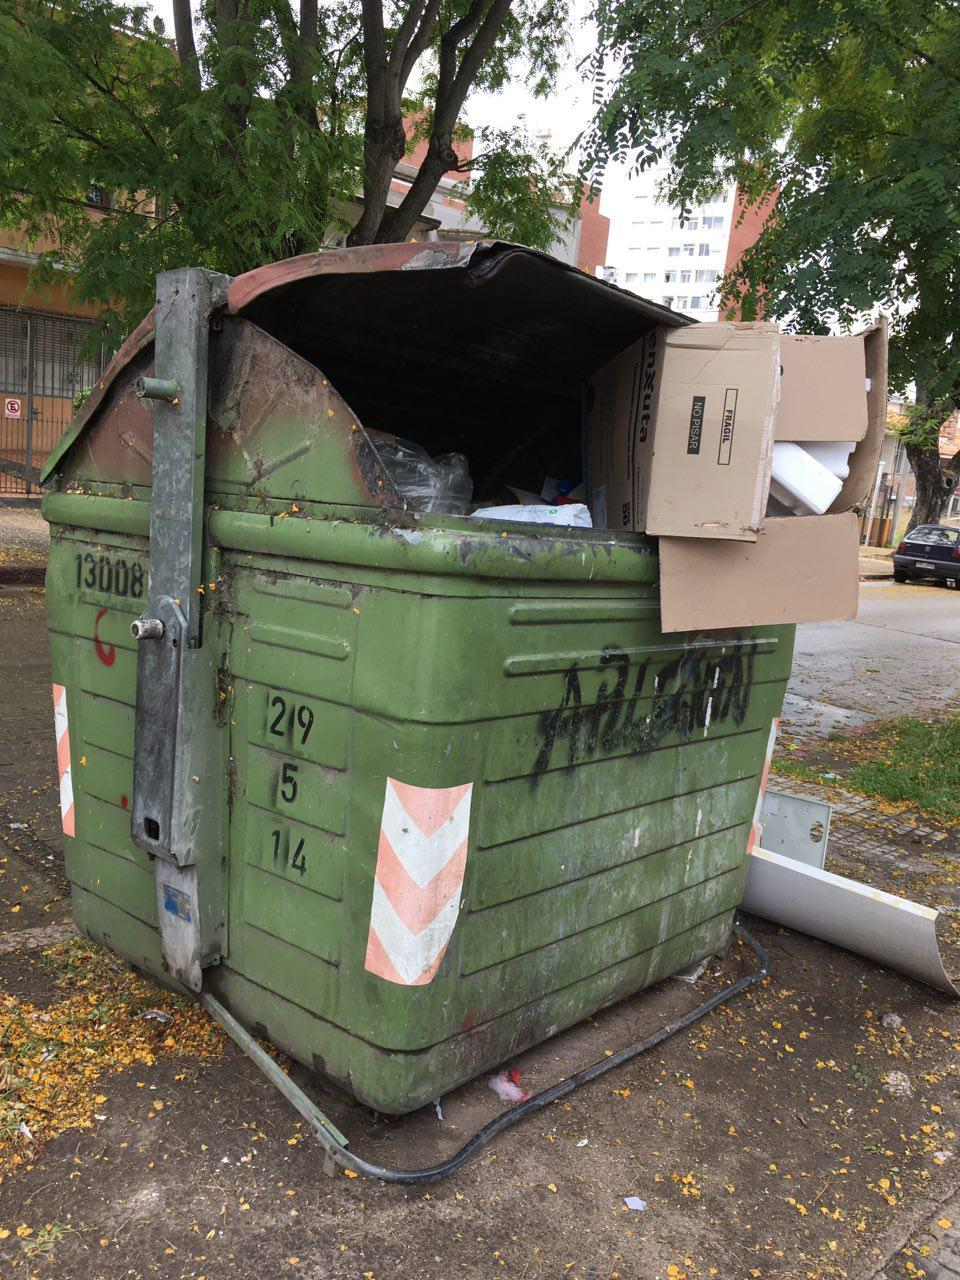Dechets: (578, 323, 888, 626), (744, 786, 952, 1008)
Trash: (40, 191, 857, 1208)
